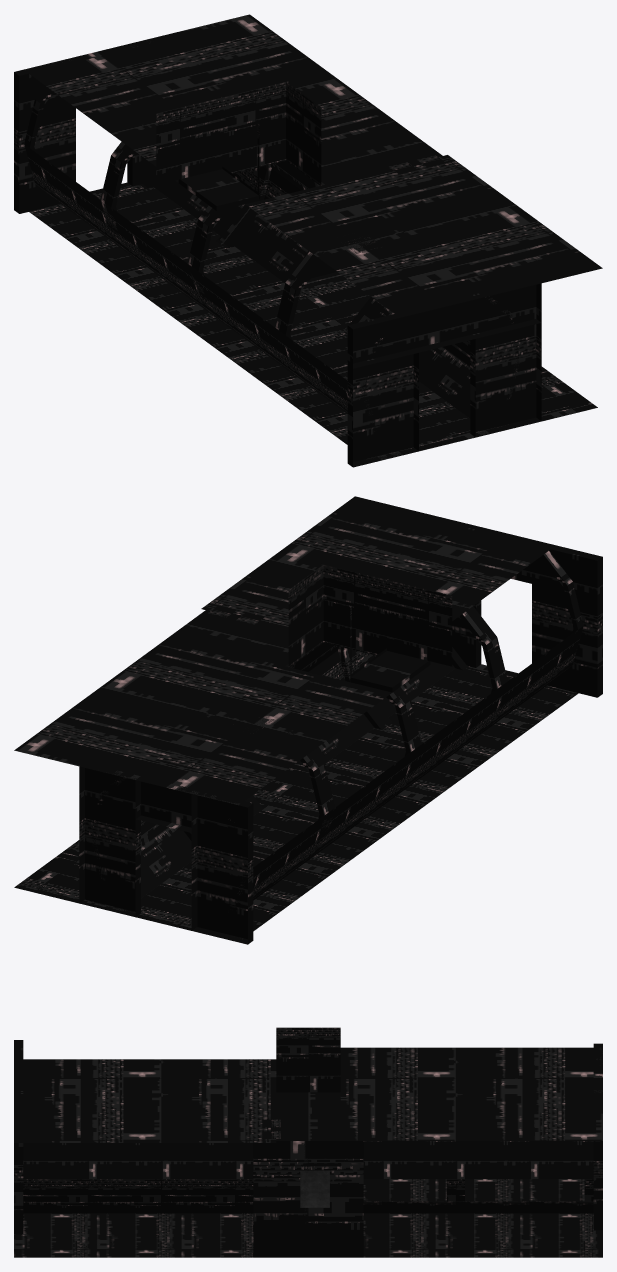
File: tunnel2_opt.obj
The picture shows the model from 3 angles, top to bottom: view 1: azimuth 30°, elevation 25°; view 2: azimuth 150°, elevation 25°; view 3: azimuth 270°, elevation 25°; orthographic projection. The views are drawn at different scales.
Bounding box in the file's own units: 864 × 697 × 2048.
